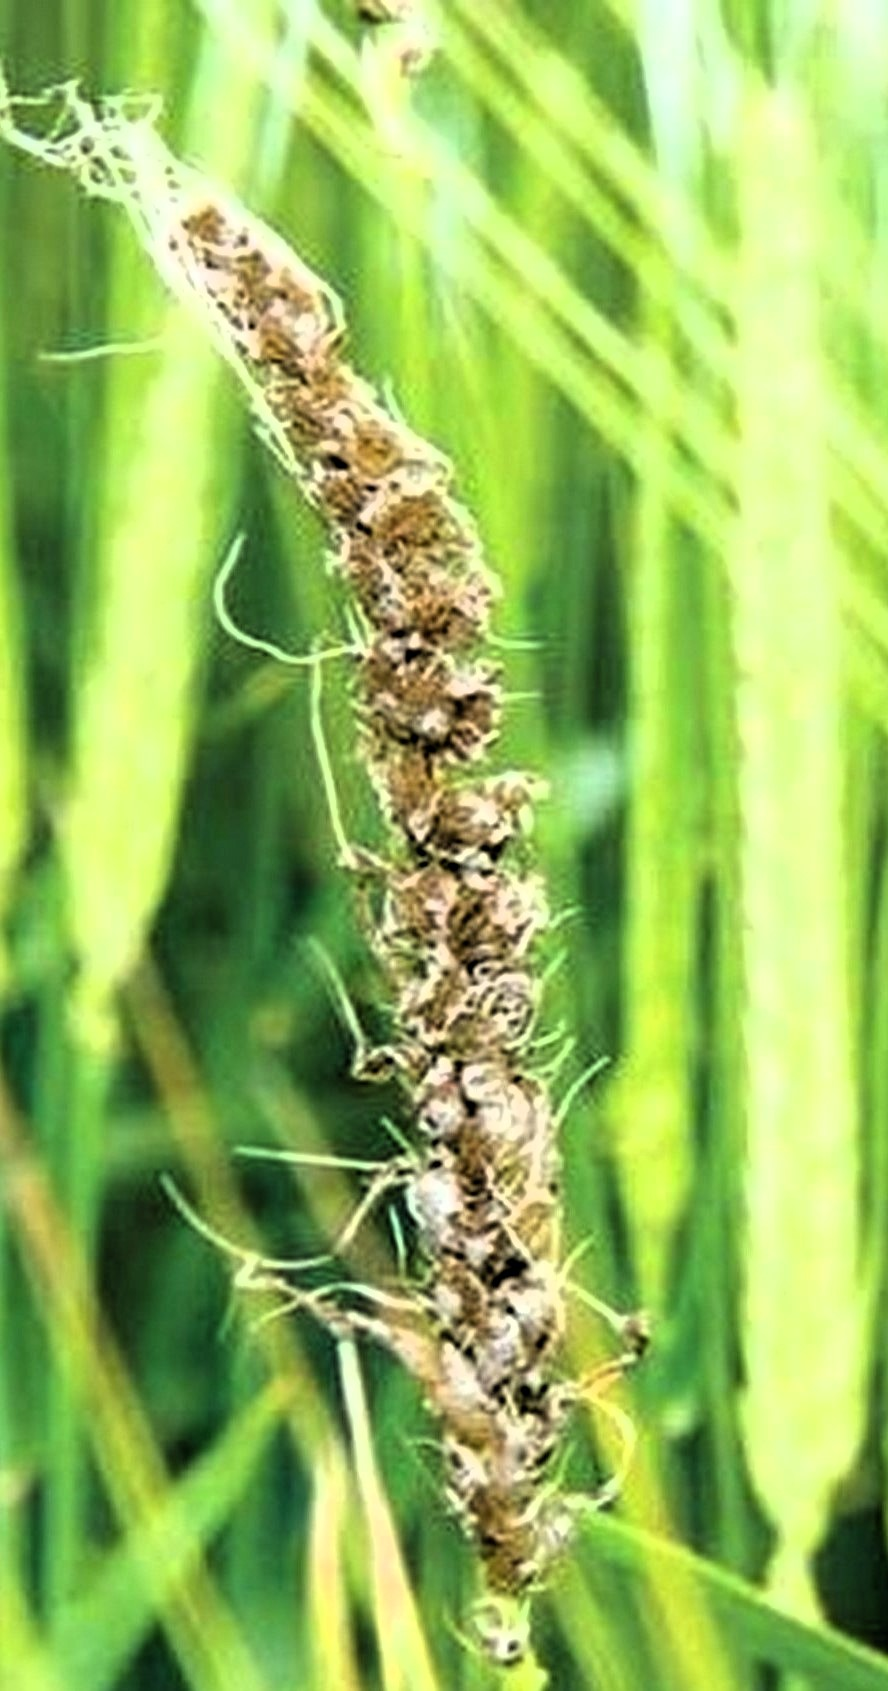Wheat Loose Smut: (170, 207, 626, 1477)
